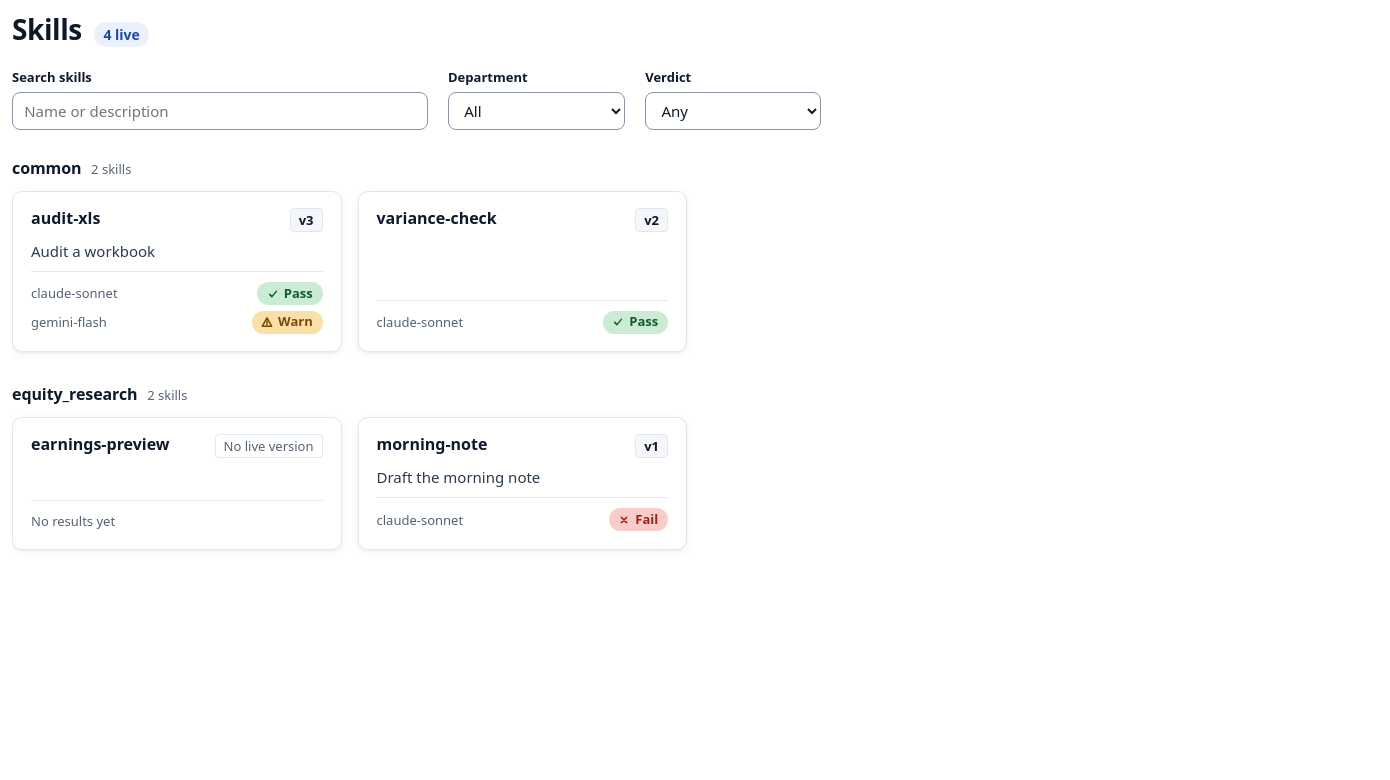
Test: Catalog › shows the live count, which a search does not change
This screenshot has width=1390, height=780.
Expected: the text "4 live" is shown, [94,22,149,47]
Type "audit" into the search field labelled "Search skills". click: [220, 111]
box: [12,92,428,130]
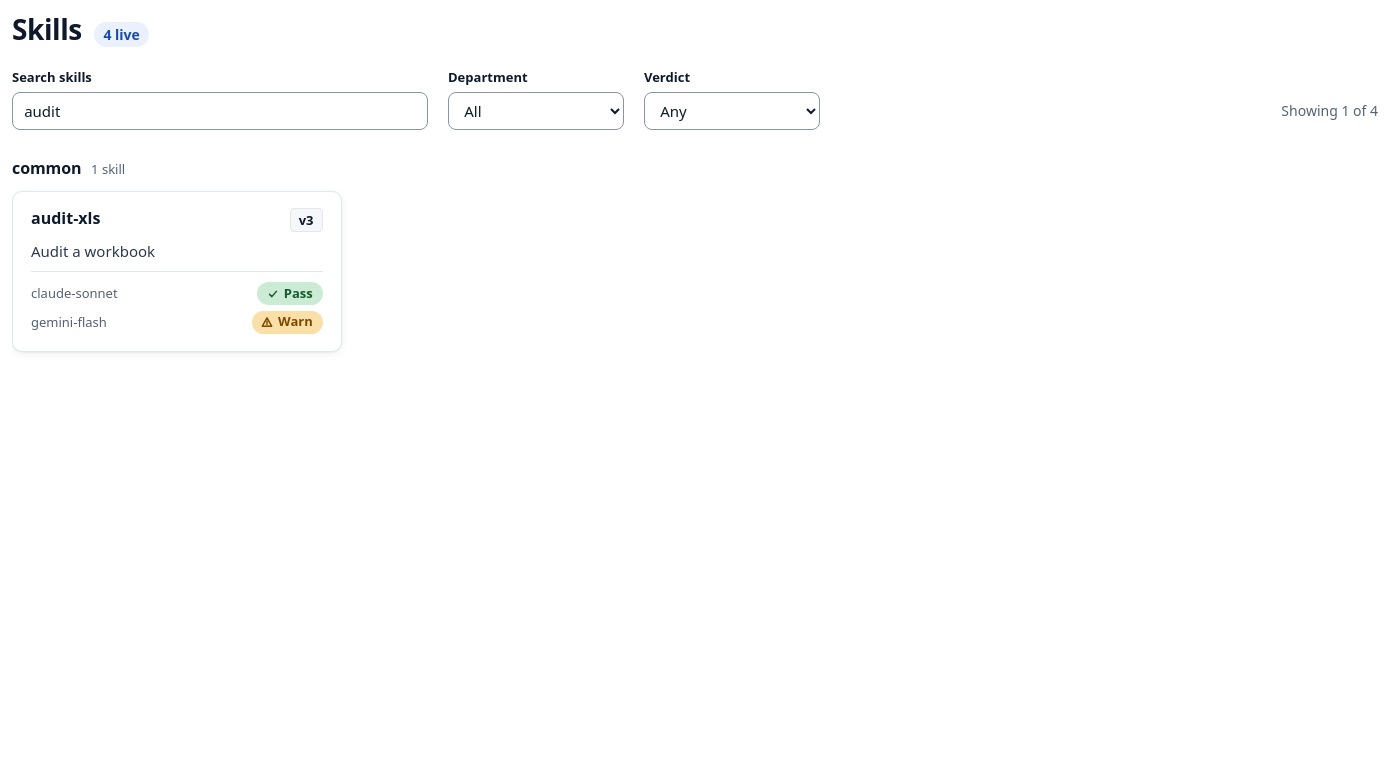
Expected: the text "4 live" is shown, [94,22,149,47]
Expected: the text "Showing 1 of 4" is shown, [1281,101,1378,120]
